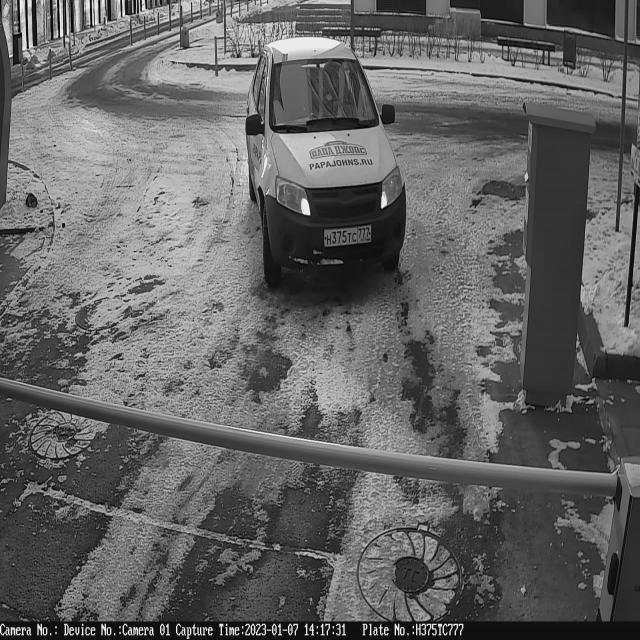car-plate-numbers: (323, 226, 374, 251)
